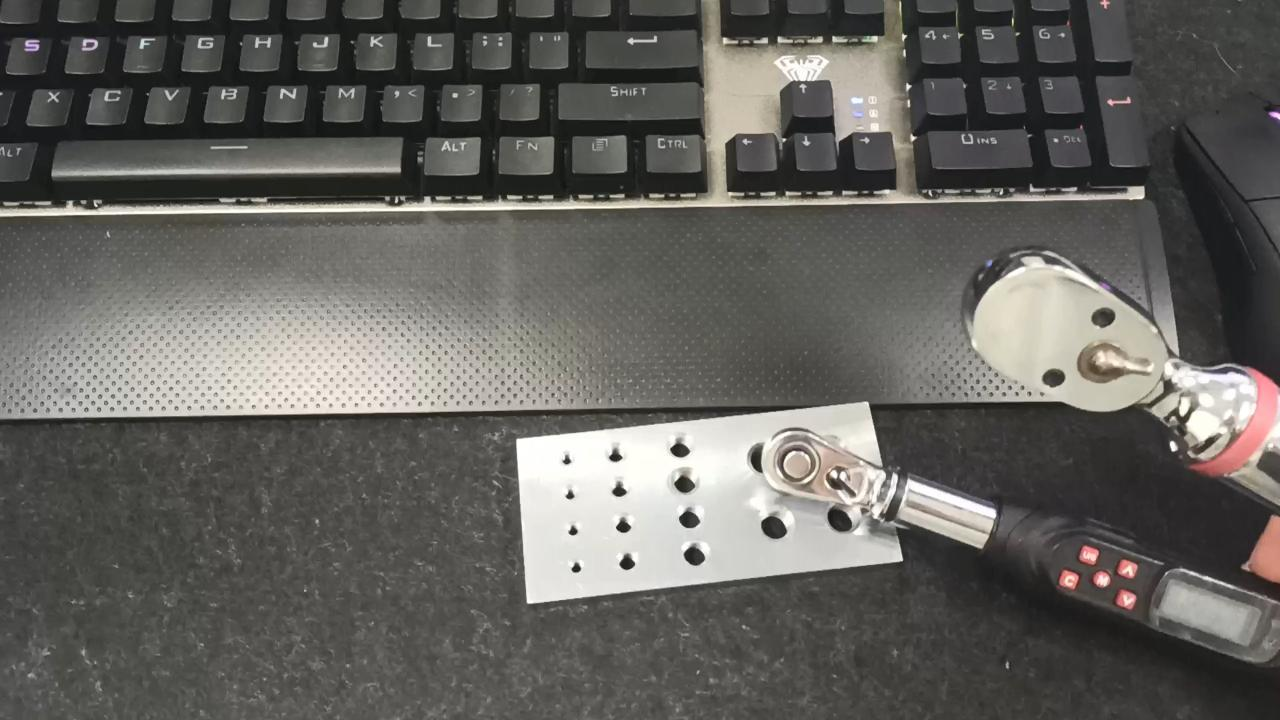Tool: (960, 255, 1254, 463), (763, 426, 893, 512)
